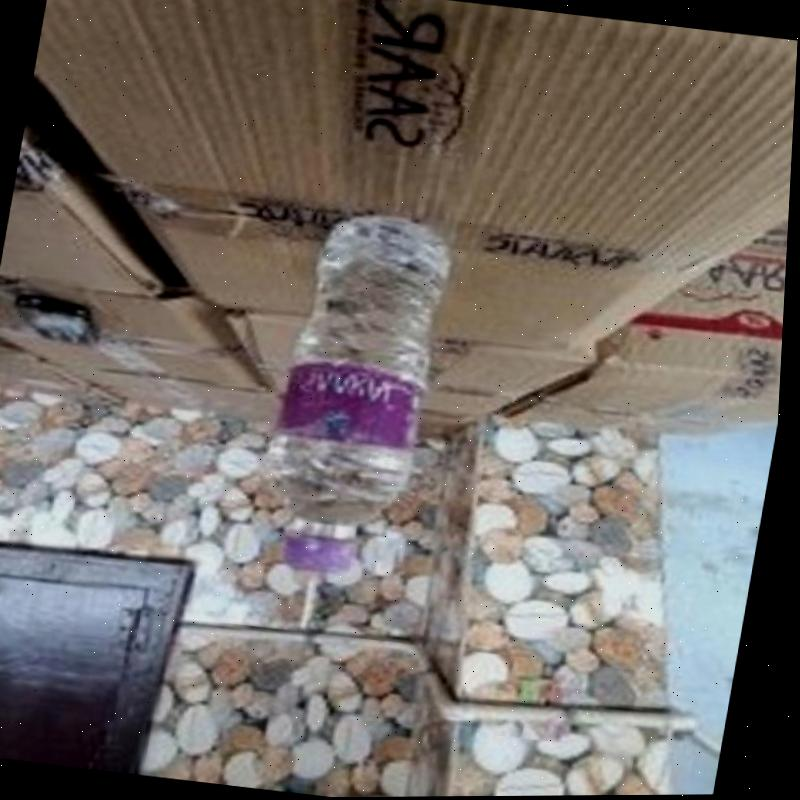botella: (244, 208, 464, 585)
